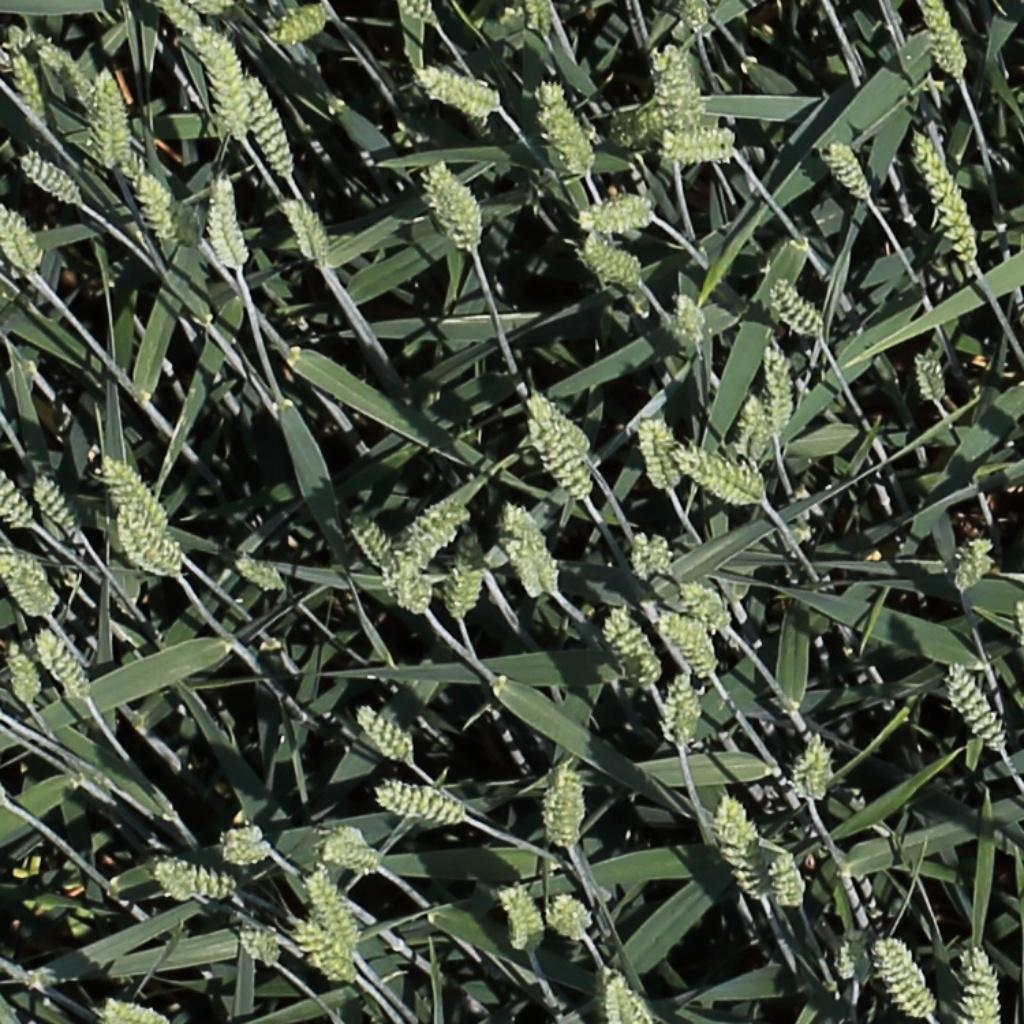0-0: (909, 124, 983, 266), (703, 788, 780, 908), (671, 437, 771, 509), (943, 658, 1011, 759), (193, 24, 251, 141), (21, 25, 99, 111), (238, 70, 296, 180), (527, 409, 593, 503), (101, 449, 172, 535), (536, 79, 596, 176), (366, 776, 477, 828), (876, 932, 937, 1024), (425, 157, 483, 252), (503, 503, 561, 598), (603, 604, 663, 693), (305, 866, 361, 958), (32, 626, 95, 707), (312, 822, 393, 885), (204, 170, 255, 269), (416, 66, 503, 124), (113, 505, 181, 577), (527, 389, 596, 458), (538, 760, 588, 854), (658, 610, 720, 684), (292, 918, 357, 987), (609, 101, 693, 154), (496, 880, 552, 959), (400, 502, 468, 566), (353, 704, 416, 770), (921, 0, 970, 84), (170, 855, 248, 906), (27, 471, 83, 542), (650, 35, 692, 129), (344, 502, 397, 576), (600, 966, 667, 1024), (501, 525, 550, 604), (131, 169, 180, 248), (94, 66, 131, 170), (771, 274, 830, 339), (826, 135, 879, 206), (630, 524, 687, 589), (578, 192, 665, 234), (0, 551, 57, 615), (783, 731, 831, 807), (281, 191, 329, 266), (659, 125, 740, 169), (17, 148, 81, 203), (0, 196, 42, 278), (383, 551, 432, 621), (0, 637, 42, 712), (450, 531, 483, 626), (640, 412, 677, 496), (0, 438, 34, 529), (663, 670, 699, 752), (953, 528, 995, 598), (547, 892, 600, 945), (682, 580, 734, 634), (217, 823, 278, 869), (765, 342, 793, 441), (584, 236, 645, 281), (963, 942, 995, 1024), (671, 283, 709, 350), (831, 928, 870, 991), (735, 390, 768, 464), (236, 921, 282, 972), (774, 846, 806, 917), (914, 344, 948, 409), (268, 6, 327, 42), (98, 998, 175, 1024), (151, 857, 195, 897), (236, 557, 286, 591), (159, 0, 203, 35), (681, 0, 714, 39), (404, 0, 443, 31), (528, 0, 555, 43), (189, 0, 234, 15)
